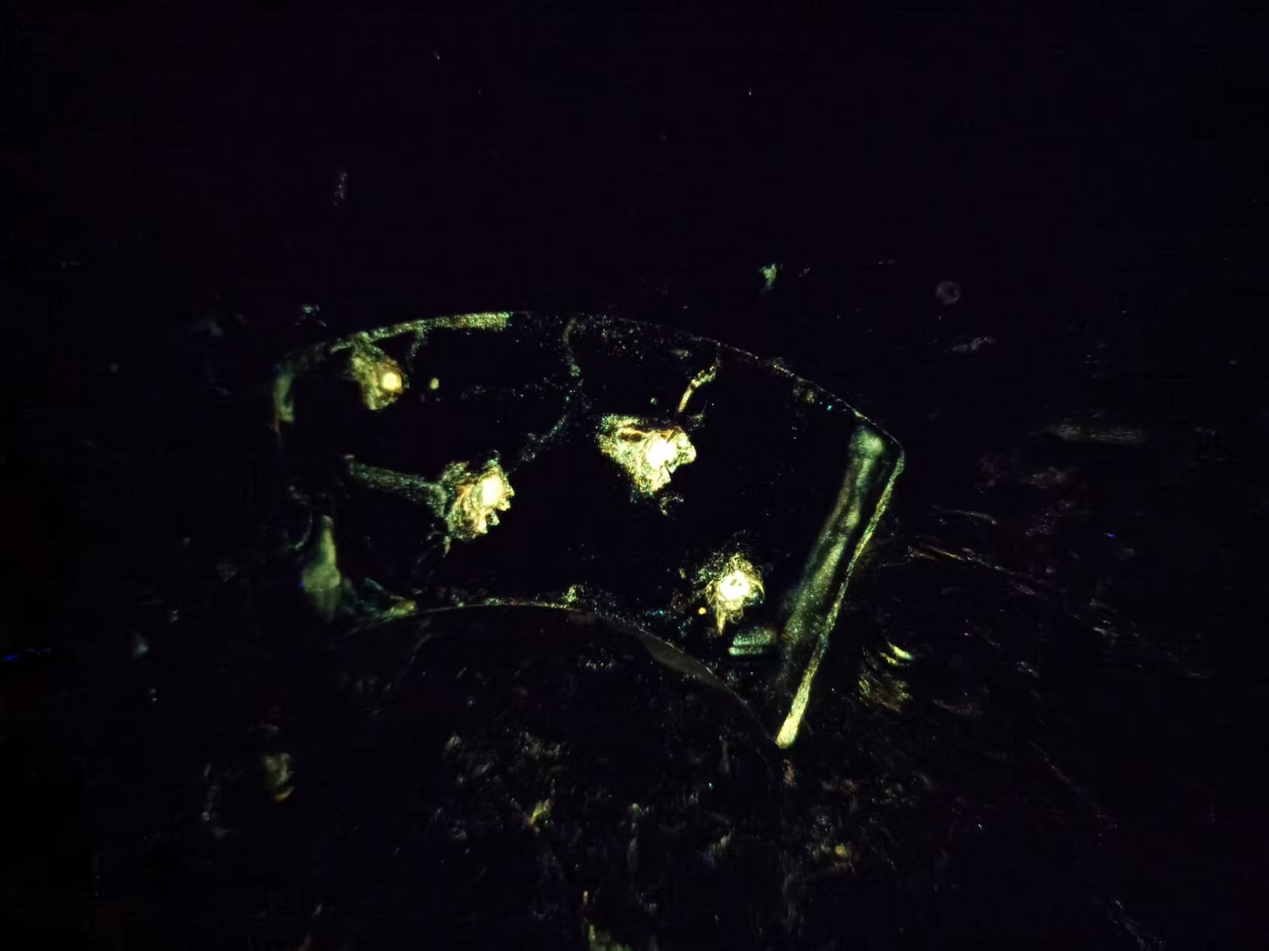Crater: (395, 452, 547, 570), (575, 395, 717, 499), (675, 538, 785, 654), (332, 339, 424, 423)
